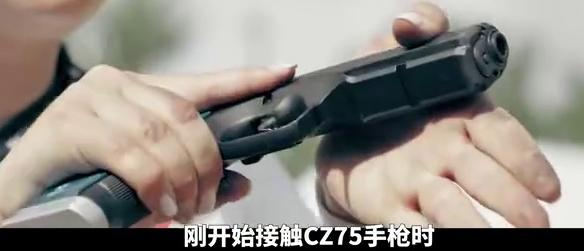gun: (1, 1, 584, 251)
